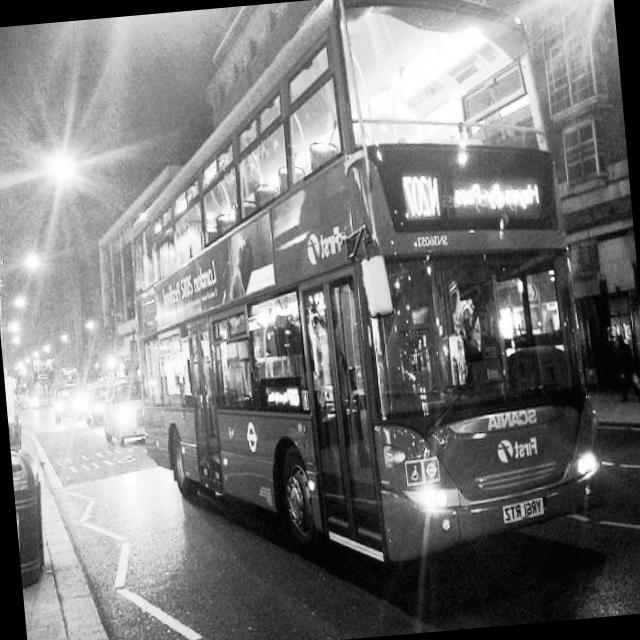Bus: (109, 0, 598, 636)
Car: (48, 364, 106, 436), (98, 372, 145, 454)
